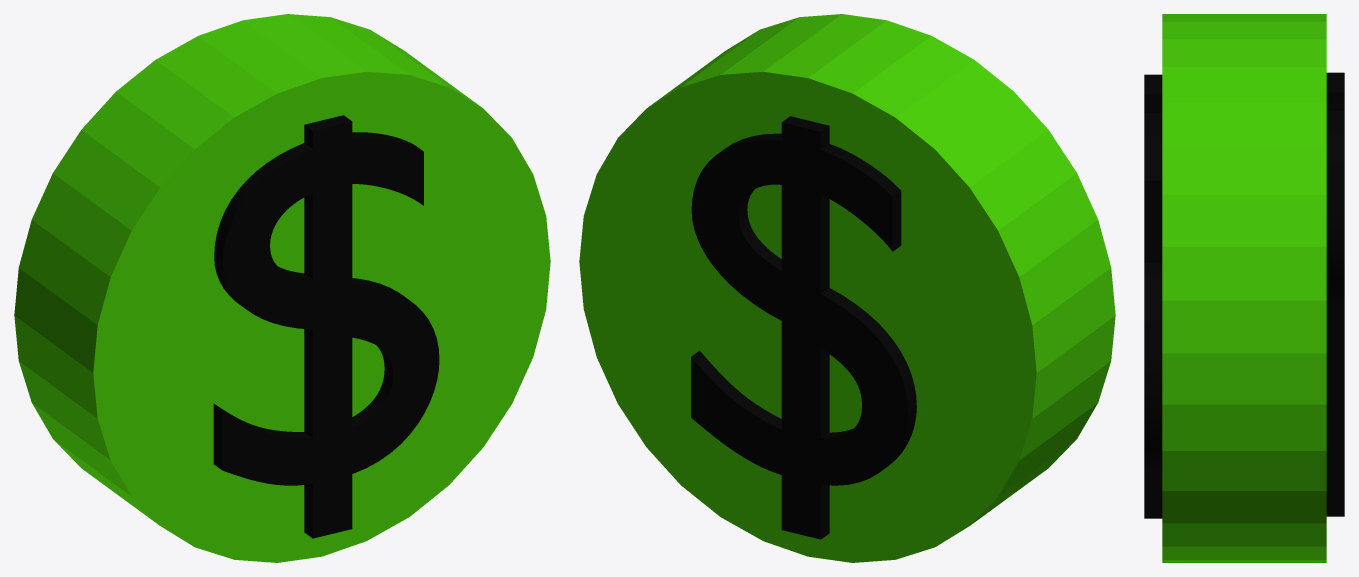
File: coin.obj
3 views of the same model, side by side, from view 1: azimuth 30°, elevation 25°; view 2: azimuth 150°, elevation 25°; view 3: azimuth 270°, elevation 25° (orthographic). The views are drawn at different scales.
Visible parts, largest first — view 1: Окружность, ава; view 2: Окружность, ава.001; view 3: Окружность, ава, ава.001.
Boxes of the visible parts, x1=… form: Окружность: x1=14, y1=14, x2=550, y2=562; ава: x1=213, y1=115, x2=439, y2=538; Окружность: x1=579, y1=14, x2=1115, y2=562; ава.001: x1=691, y1=116, x2=916, y2=539; Окружность: x1=1162, y1=14, x2=1326, y2=562; ава: x1=1144, y1=74, x2=1162, y2=518; ава.001: x1=1326, y1=72, x2=1344, y2=516.
Bounding box in the file's own units: 2 × 2 × 0.7291.
